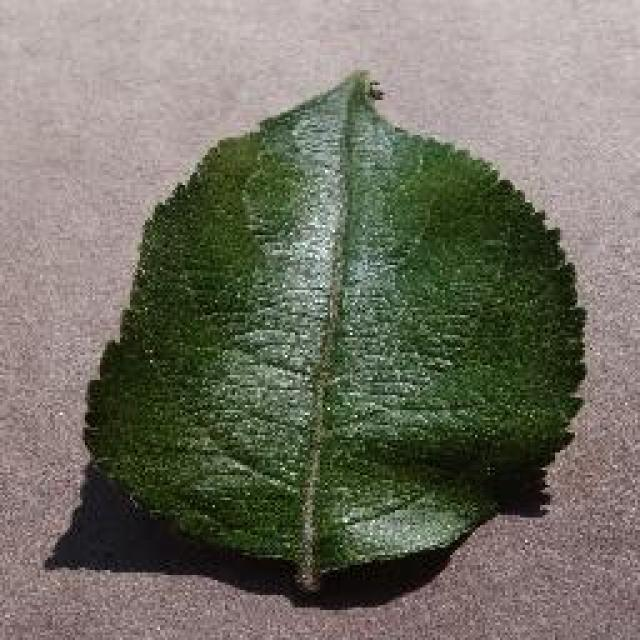apple scab disease: (80, 65, 588, 595)
